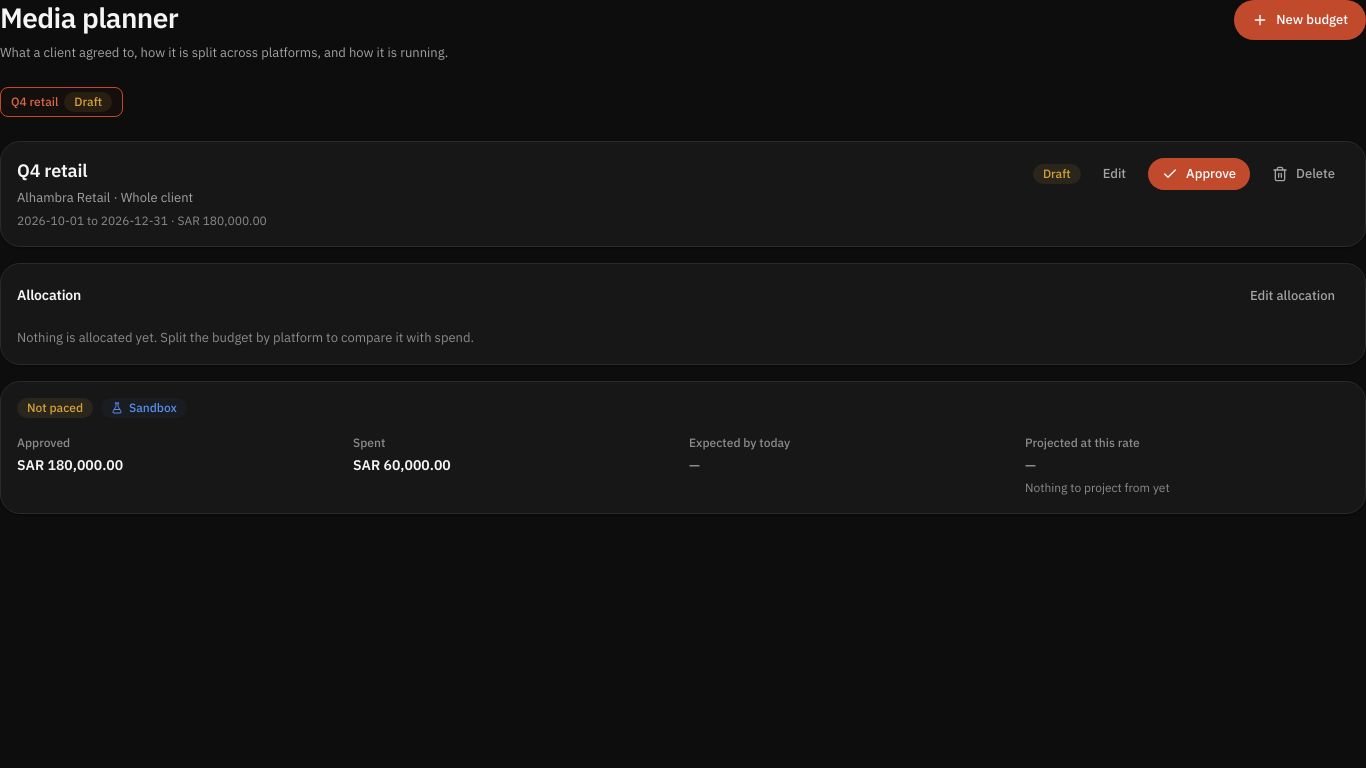
Test: MediaPlannerPage › offers only platforms whose API can report spend
What coordinates should you click on to do the following:
click the button "Edit allocation"
I would click on:
 (1292, 296)
Its box is [1236,280,1349,312].
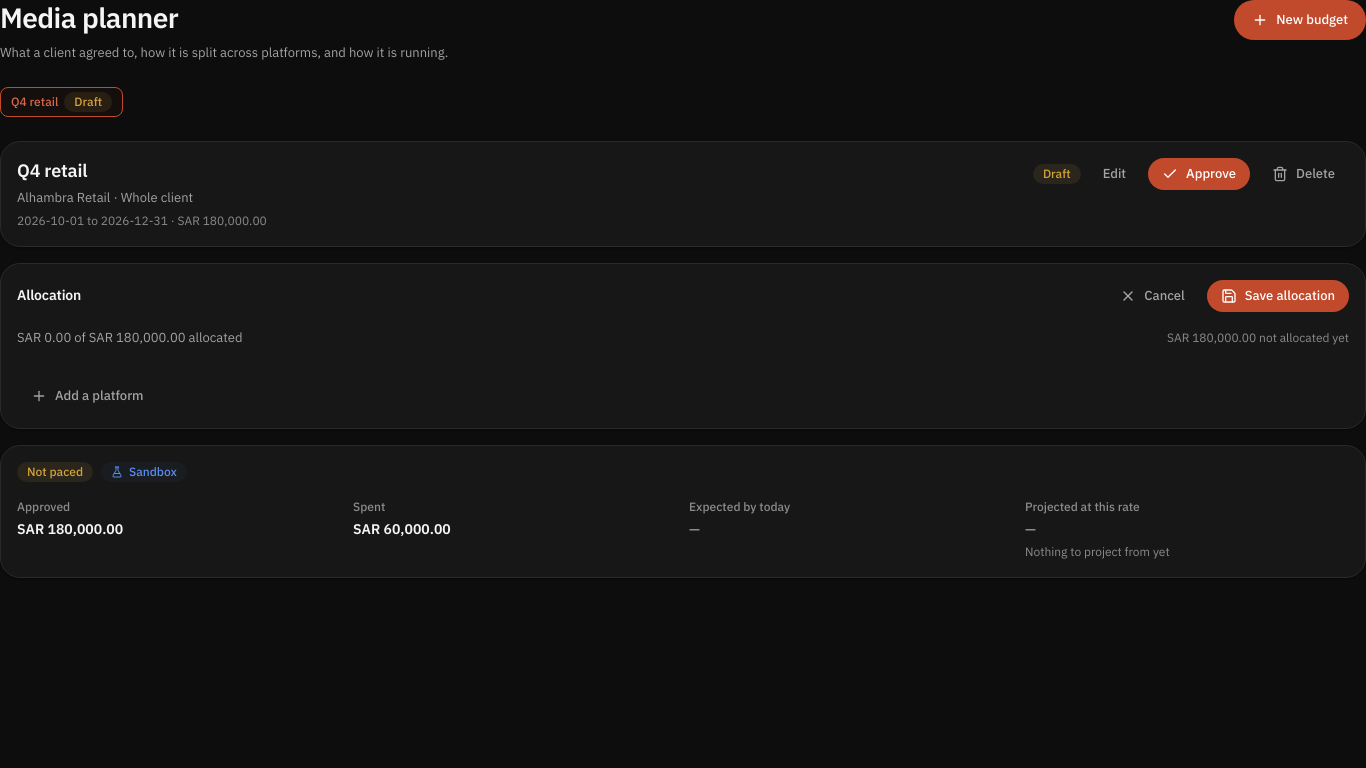
What coordinates should you click on to do the following:
click the button "Add a platform"
I would click on:
 (87, 396)
Its box is [17,380,158,412].
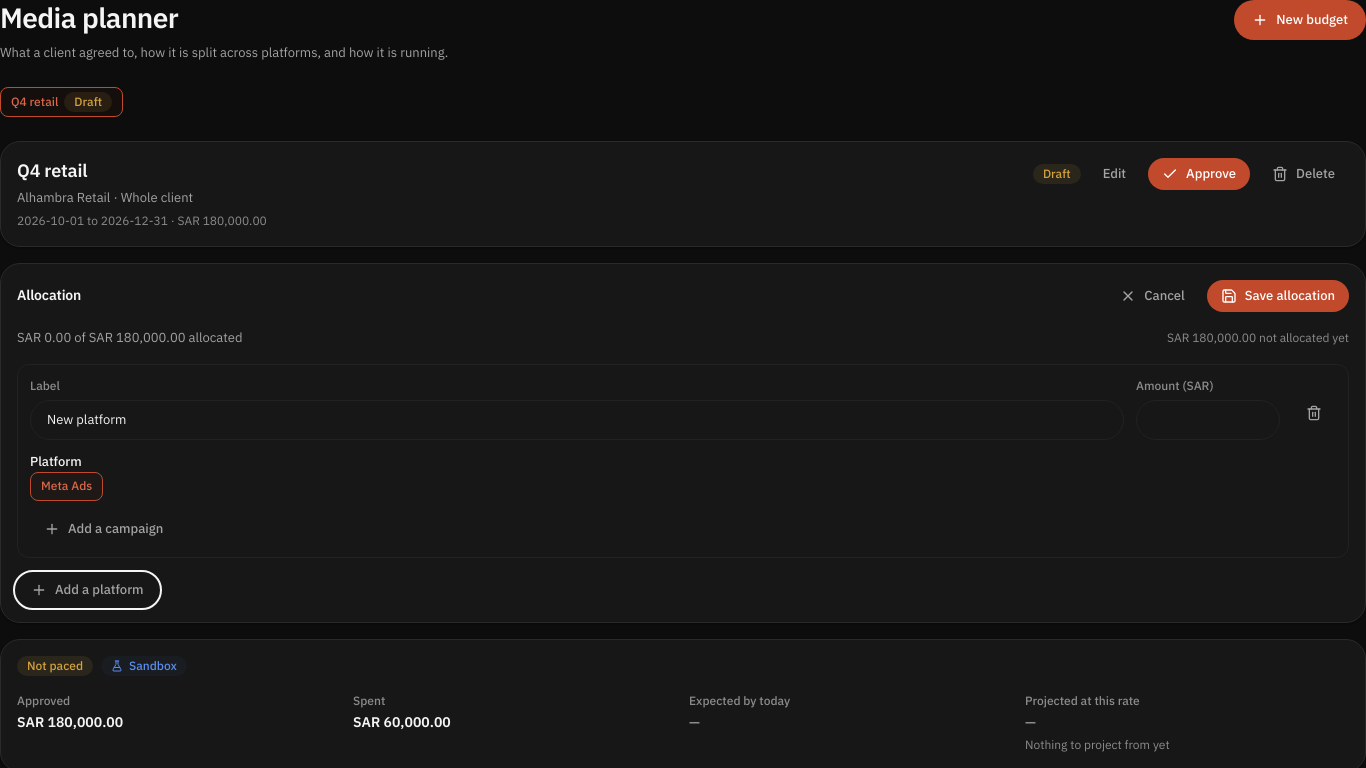
Check: the button "Meta Ads" is shown, box [30,472,103,501]
